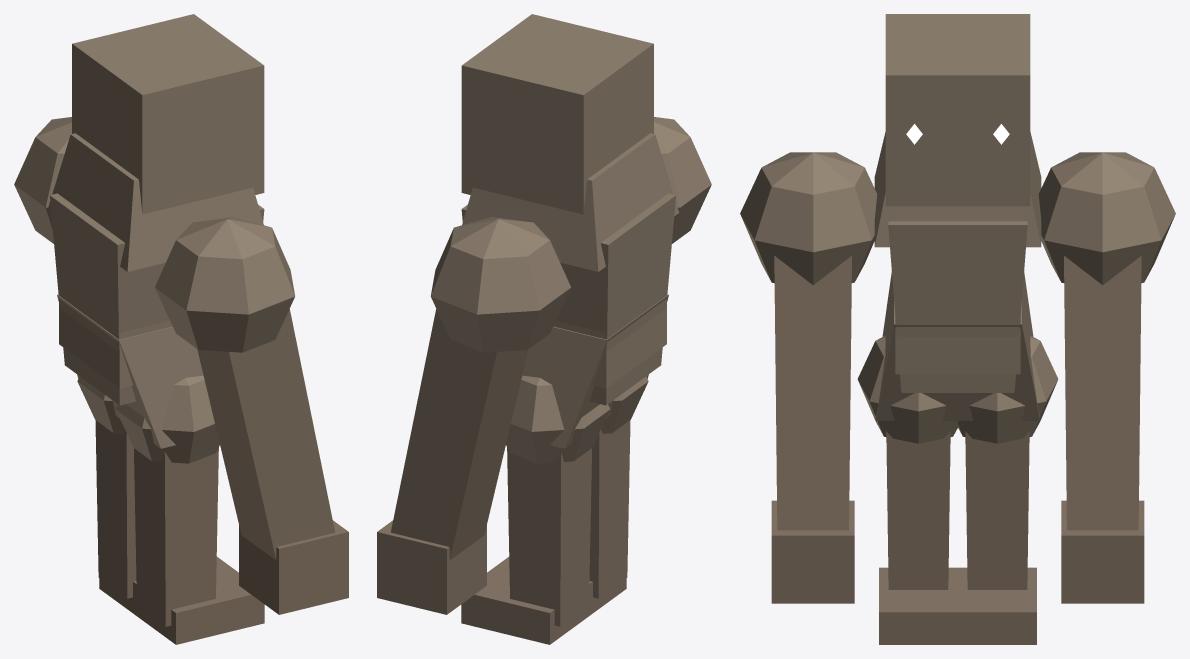
The model's file is monkey.glb.
3 views of the same model, side by side, from view 1: azimuth 30°, elevation 25°; view 2: azimuth 150°, elevation 25°; view 3: azimuth 270°, elevation 25° (orthographic). The views are drawn at different scales.
Parts seen in each view (by area): view 1: body, head, armR, legR, legL; view 2: body, head, armL, legL, legR; view 3: body, head, armL, armR, legL, legR.
Part boxes in pixels (x1,y1,x2,y2): body: (14, 117, 295, 463); head: (72, 14, 264, 214); armR: (197, 309, 348, 614); legR: (134, 447, 264, 644); legL: (95, 420, 225, 616); body: (430, 117, 711, 463); head: (461, 14, 653, 214); armL: (377, 309, 528, 614); legL: (461, 447, 591, 644); legR: (500, 420, 630, 616); body: (740, 132, 1175, 443); head: (885, 14, 1030, 206); armL: (1061, 256, 1144, 603); armR: (771, 256, 854, 603); legL: (958, 431, 1036, 644); legR: (879, 431, 957, 644).
Size of the model in its own units: 0.3156 by 0.9575 by 0.6623.
